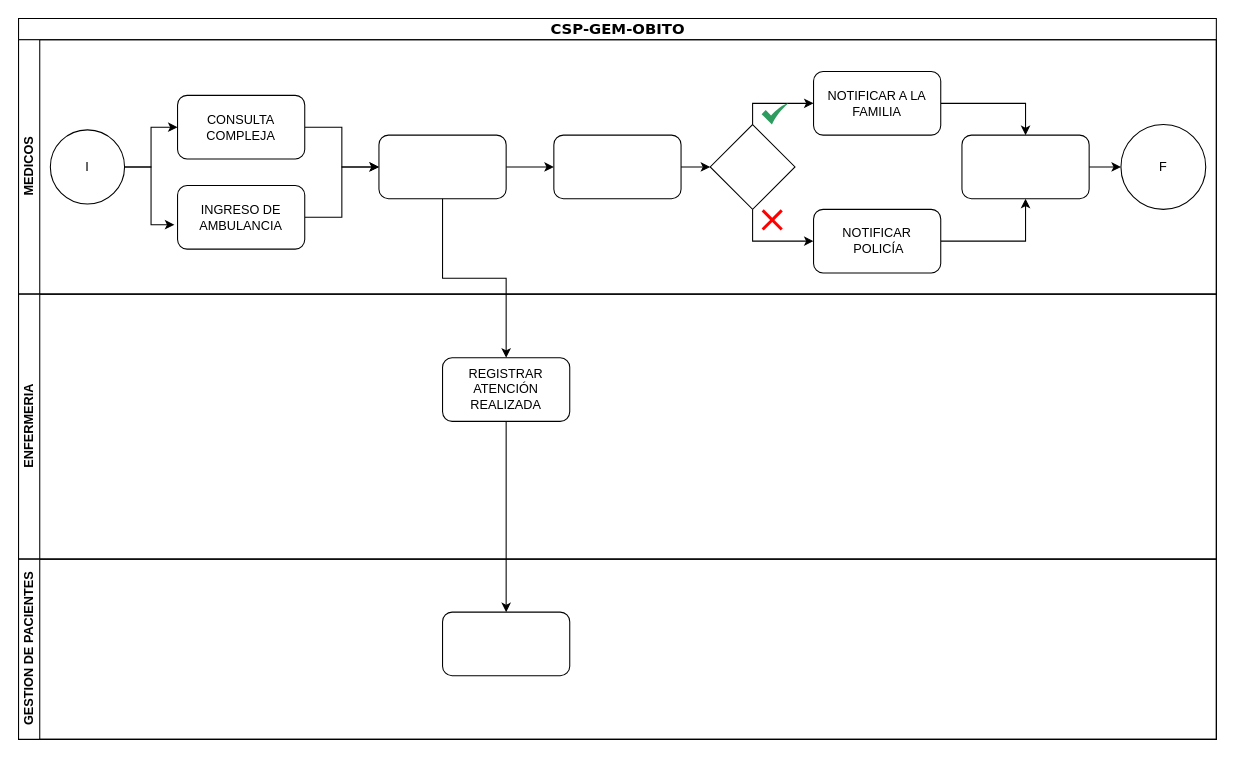
Some shapes in this 1235 by 758 pixel diagram are drawn without their labels. Here are the shapes that lost their labels. From the top down, the centre of each, then its label:
At point (442, 166): "DECLARA OBITO".
At point (617, 166): "COMPLETAR CERTIFICADO DEFUNCION".
At point (752, 166): "ESTA LA FAMILIA".
At point (1025, 166): "LLAMAR A CALF".
At point (505, 643): "REGISTRAR DATOS ESTADISTICOS".
